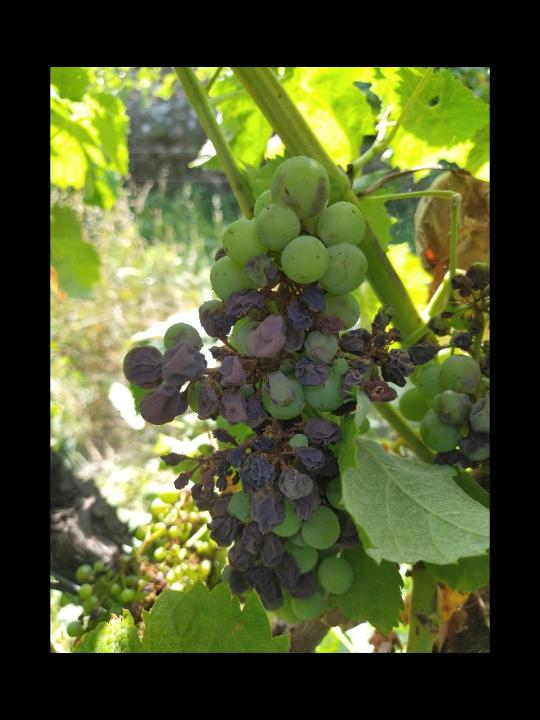grape: (119, 153, 414, 630)
